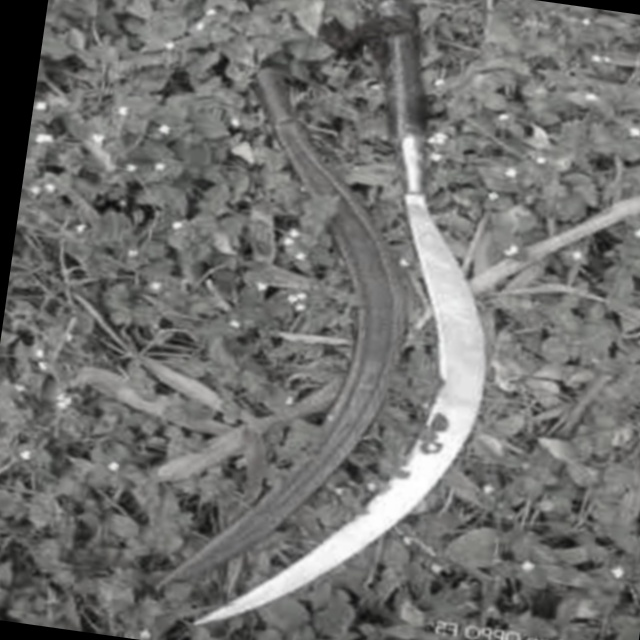Sharp-Object: (191, 0, 540, 640)
